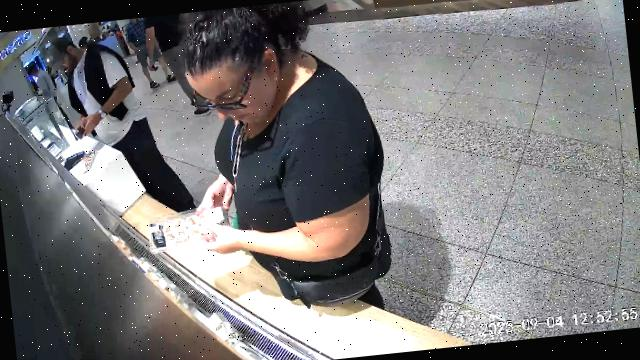sushi-box: (150, 204, 234, 253), (84, 150, 97, 173)
